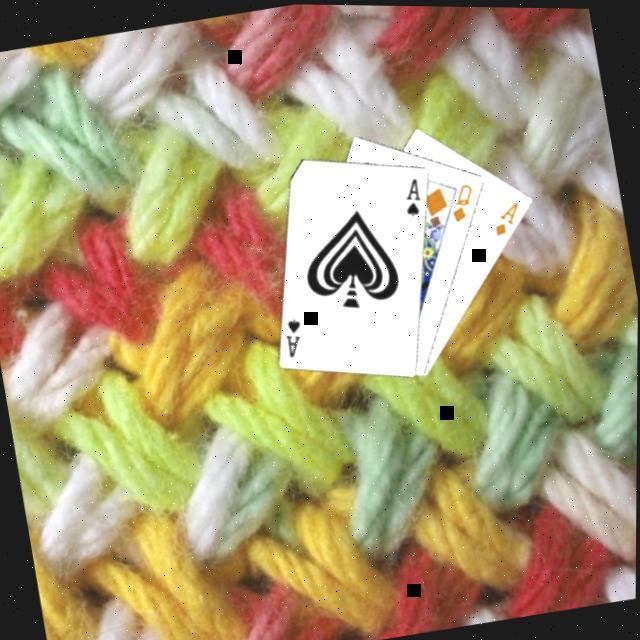AD: (489, 194, 529, 237)
AS: (281, 312, 311, 358), (400, 172, 429, 217)
QD: (446, 175, 483, 224)
